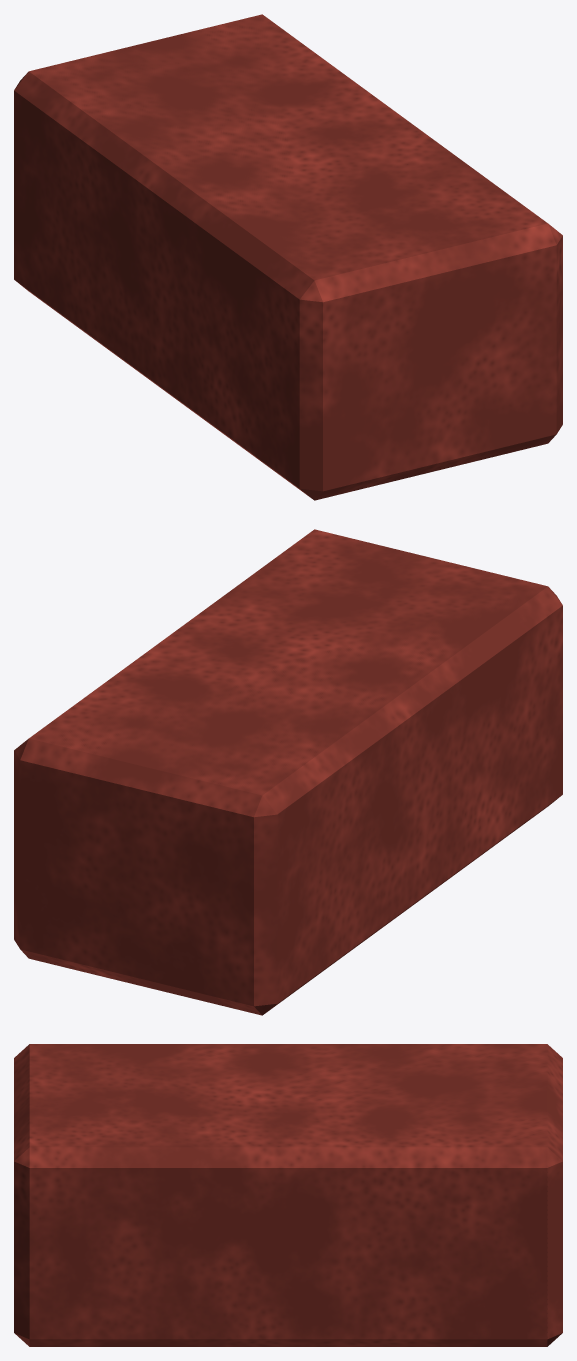
Rendered from brick.glb.
The picture shows the model from 3 angles, top to bottom: view 1: azimuth 30°, elevation 25°; view 2: azimuth 150°, elevation 25°; view 3: azimuth 270°, elevation 25°; orthographic projection. The views are drawn at different scales.
Visible parts, largest first — view 1: Brick; view 2: Brick; view 3: Brick.
Part boxes in pixels (box(x1,y1,x2,y2)): Brick: box(14, 14, 562, 500); Brick: box(14, 529, 562, 1015); Brick: box(14, 1044, 562, 1346).
Size of the model in its own units: 0.3931 by 0.3141 by 0.7831.
1 material, 1 textured.
